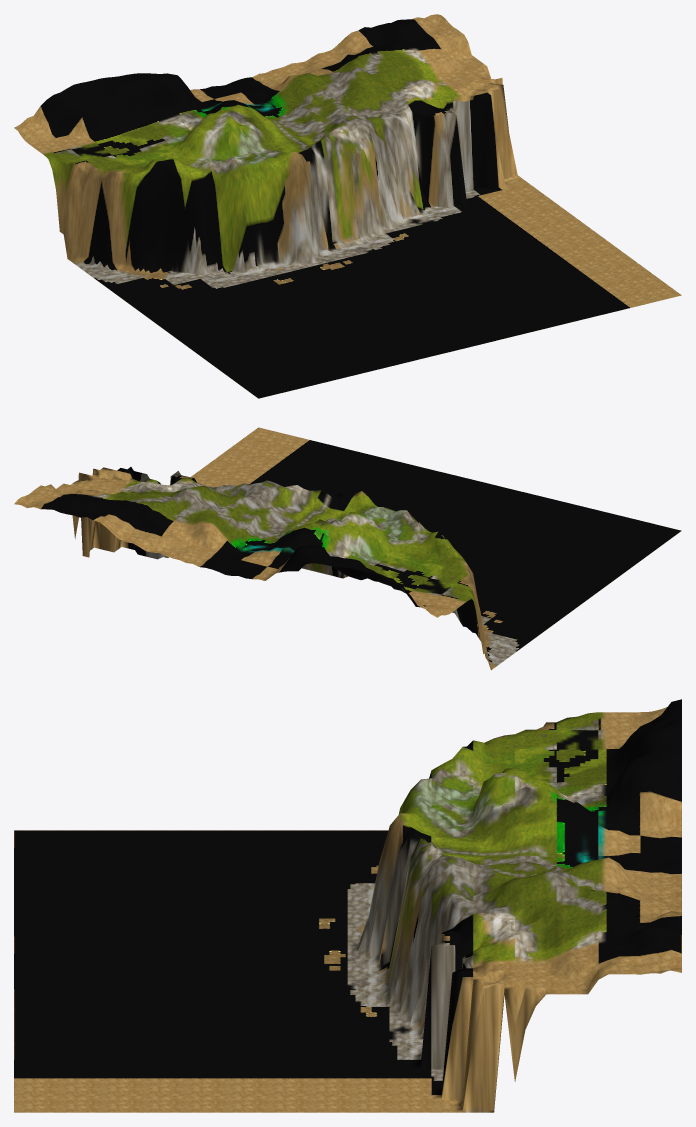
File: terrain.glb
3 renders of one model, top to bottom at view 1: azimuth 30°, elevation 25°; view 2: azimuth 150°, elevation 25°; view 3: azimuth 270°, elevation 25°, orthographic. The views are drawn at different scales.
Visible parts, largest first — view 1: terrain_2_1; view 2: terrain_2_1; view 3: terrain_2_1.
Part boxes in pixels (x1,y1,x2,y2): terrain_2_1: (14, 14, 681, 398); terrain_2_1: (14, 427, 681, 670); terrain_2_1: (14, 699, 681, 1112).
Size of the model in its own units: 512 by 139 by 512.
1 material, 1 textured.
